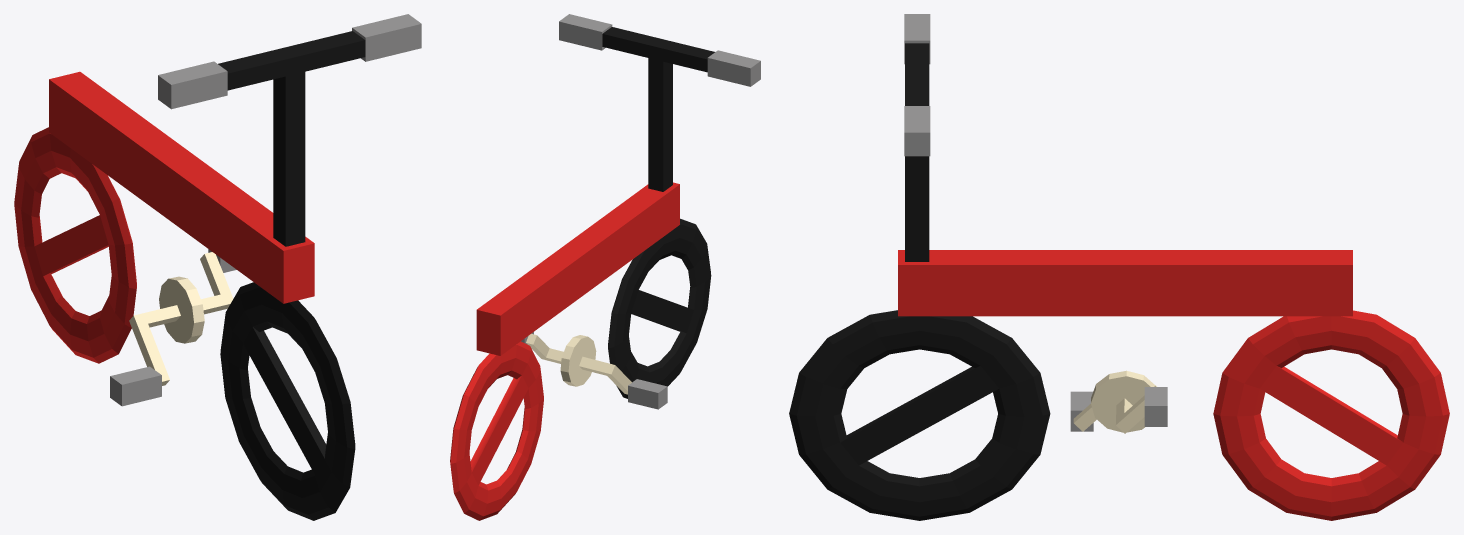
The model's file is tbikeWithAnchor.glb.
The picture shows the model from 3 angles, left to right: view 1: azimuth 30°, elevation 25°; view 2: azimuth 150°, elevation 25°; view 3: azimuth 270°, elevation 25°; orthographic projection. The views are drawn at different scales.
Visible parts, largest first — view 1: Bike, frontwheel.001, Rear wheel, steer.001, Pedal.002, handle_right, handle_left, WholePedal, pedal_right; view 2: Bike, Rear wheel, frontwheel.001, steer.001, handle_right, Pedal.002, handle_left, WholePedal, pedal_right; view 3: frontwheel.001, Bike, Rear wheel, steer.001, WholePedal, handle_left, Pedal.002, pedal_left, handle_right.
Part boxes in pixels (x1,y1,x2,y2): Bike: [49, 71, 314, 303]; frontwheel.001: [220, 282, 355, 520]; Rear wheel: [14, 127, 136, 363]; steer.001: [218, 31, 365, 246]; Pedal.002: [129, 252, 233, 385]; handle_right: [158, 61, 227, 109]; handle_left: [352, 14, 421, 61]; WholePedal: [159, 276, 204, 343]; pedal_right: [110, 366, 161, 406]; Bike: [476, 182, 679, 355]; Rear wheel: [450, 341, 543, 520]; frontwheel.001: [608, 218, 711, 398]; steer.001: [602, 27, 714, 191]; handle_right: [707, 50, 760, 86]; Pedal.002: [526, 333, 631, 394]; handle_left: [559, 14, 612, 50]; WholePedal: [560, 335, 596, 386]; pedal_right: [628, 379, 667, 409]; frontwheel.001: [789, 310, 1050, 520]; Bike: [898, 250, 1352, 316]; Rear wheel: [1213, 310, 1449, 520]; steer.001: [905, 43, 929, 261]; WholePedal: [1091, 370, 1155, 432]; handle_left: [904, 106, 930, 156]; Pedal.002: [1073, 385, 1156, 433]; pedal_left: [1144, 387, 1167, 426]; handle_right: [904, 14, 930, 64].
Bounding box in the file's own units: 1.1 × 1.94 × 2.59.
